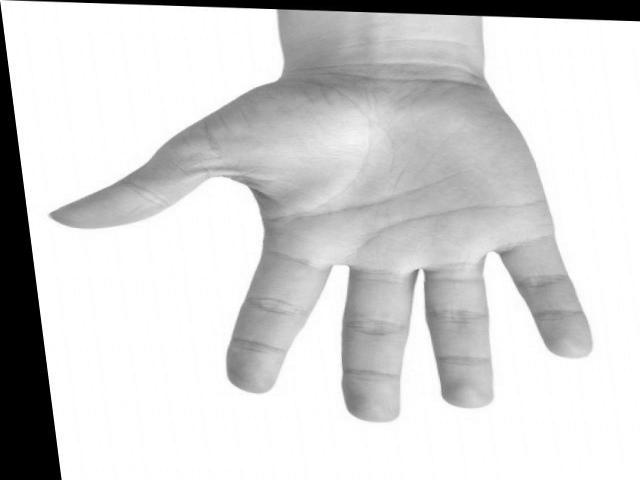not-gloved: (48, 73, 594, 422)
